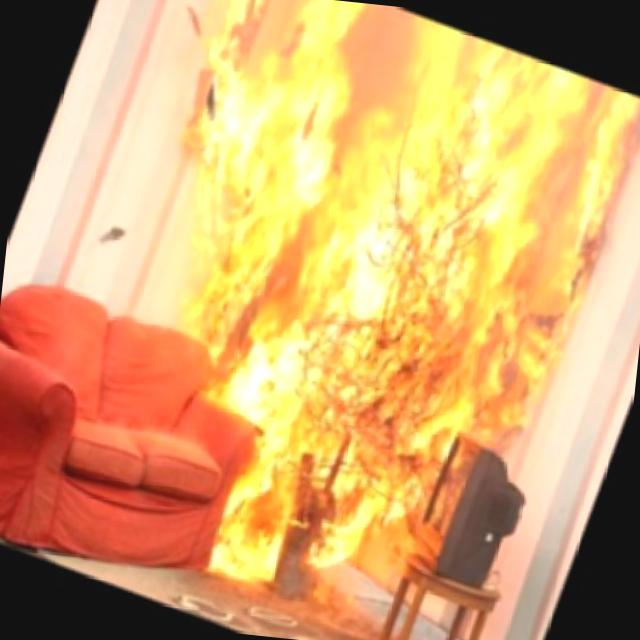fire: (125, 0, 640, 435)
